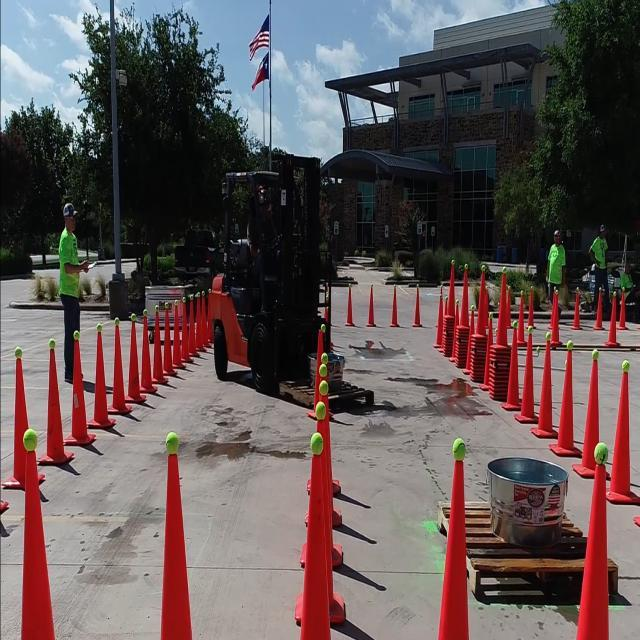forklift: (207, 168, 313, 388)
person: (55, 198, 85, 312), (550, 230, 566, 292), (592, 221, 607, 281)
